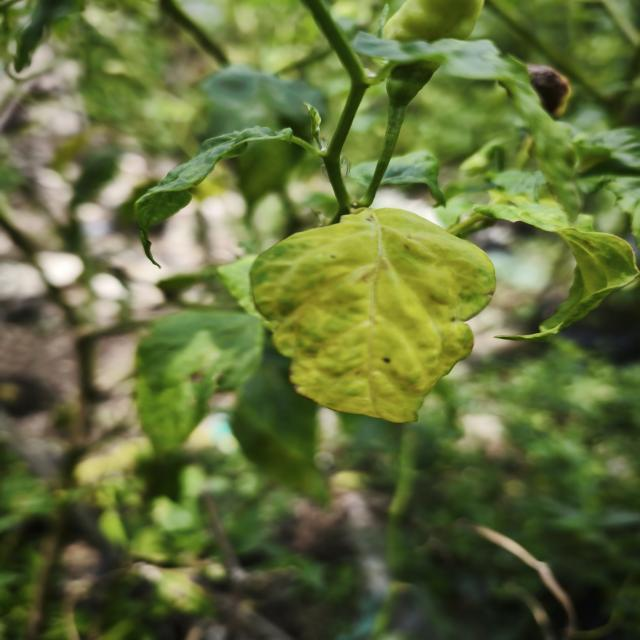Virus Kuning: (248, 206, 496, 424)
